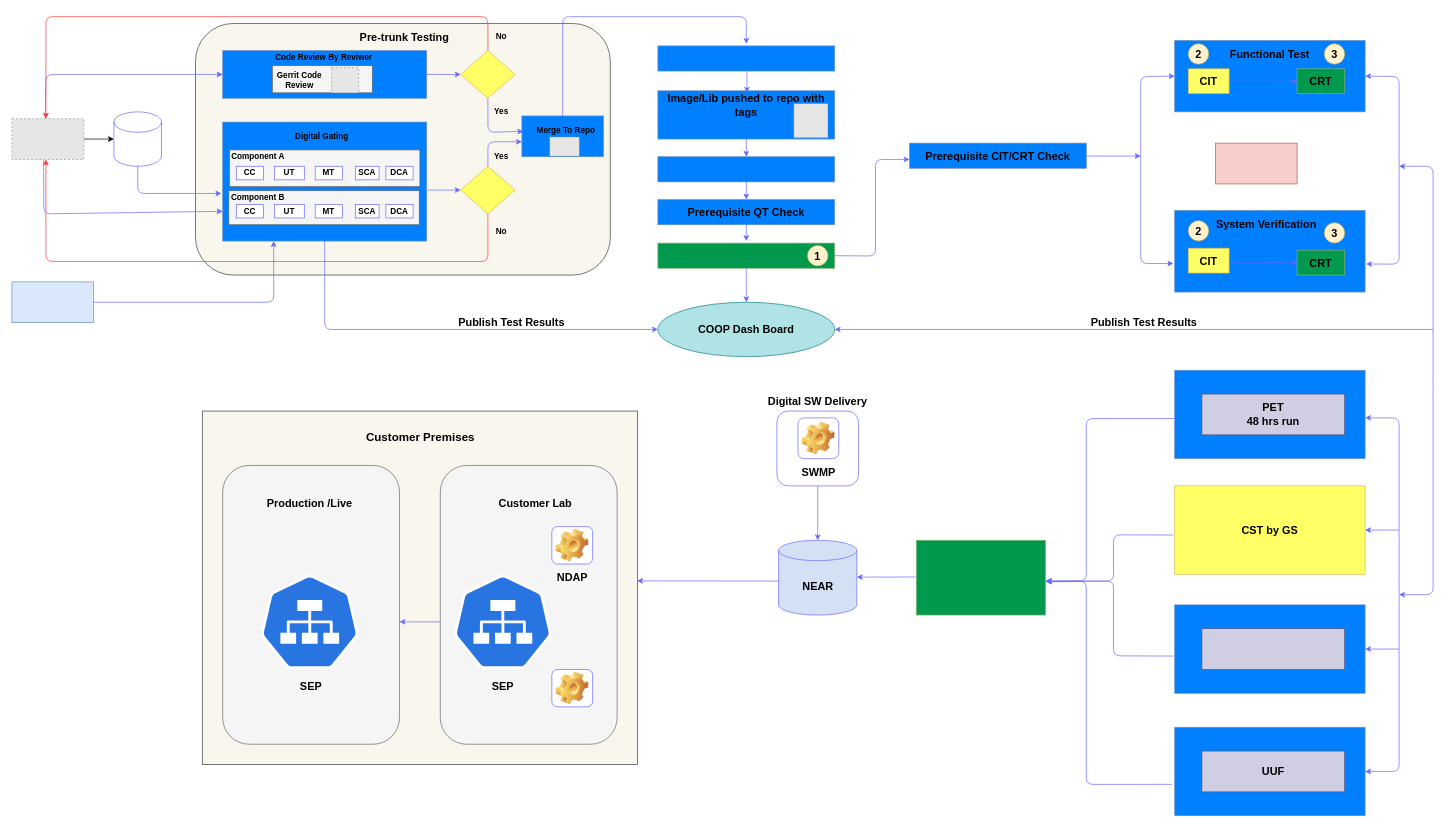
Some shapes in this 1451 by 828 pixel diagram are drawn without their labels. Grey dashed boxes stand in for pictures. Each missing label, with the box of its shape:
BFAT: (551, 669, 593, 707)
DG Passed ?: (460, 166, 515, 214)
Docker Base Image Update: (11, 281, 94, 323)
Generate Docker Image/Library: (657, 45, 835, 71)
Generate SEP Build: (657, 156, 835, 182)
Good Code ?: (460, 50, 515, 98)
Open Source Repo: (113, 111, 162, 166)
QT: (657, 242, 835, 268)
Release Checks: (916, 540, 1046, 615)
Security Test: (1201, 628, 1345, 669)
Stop and Fix if QT/CIT Fails: (1215, 142, 1297, 184)
